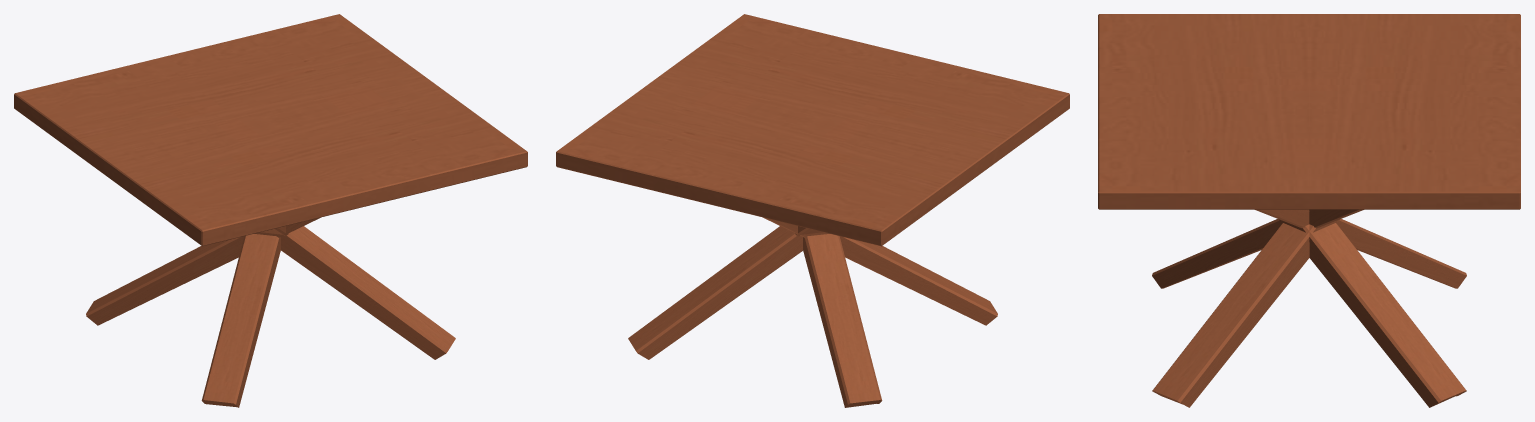
The model's file is square-cherry.glb.
3 renders of one model, left to right at view 1: azimuth 30°, elevation 25°; view 2: azimuth 150°, elevation 25°; view 3: azimuth 270°, elevation 25°, orthographic. The views are drawn at different scales.
Visible parts, largest first — view 1: Wood_Square, Base_Square; view 2: Wood_Square, Base_Square; view 3: Wood_Square, Base_Square.
Boxes of the visible parts, x1,y1,x2,y2 form: Wood_Square: (14, 14, 527, 246); Base_Square: (86, 217, 455, 407); Wood_Square: (556, 14, 1069, 246); Base_Square: (628, 217, 997, 407); Wood_Square: (1098, 14, 1520, 209); Base_Square: (1152, 209, 1466, 407).
Size of the model in its own units: 1.22 by 0.762 by 1.22.
1 material, 1 textured.
